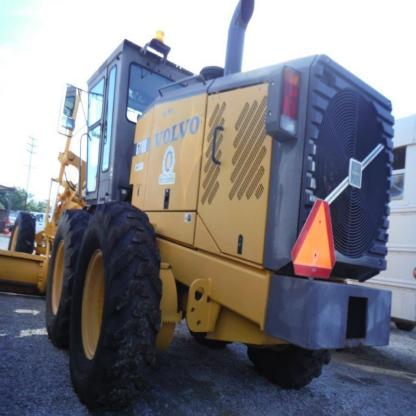bull_dozer/loader/grader: (6, 32, 396, 406)
